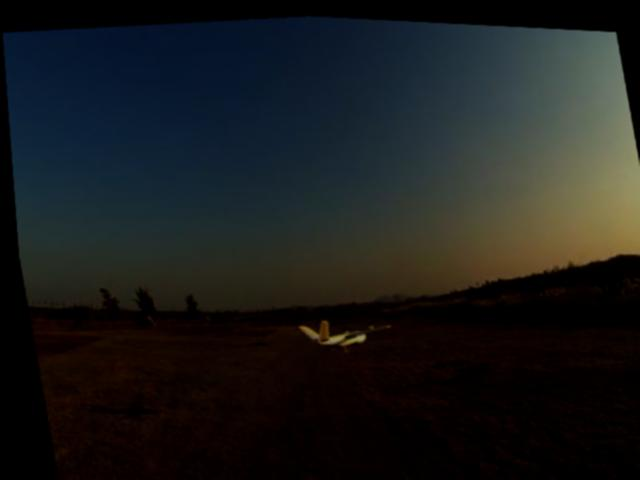uav: (283, 295, 399, 365)
